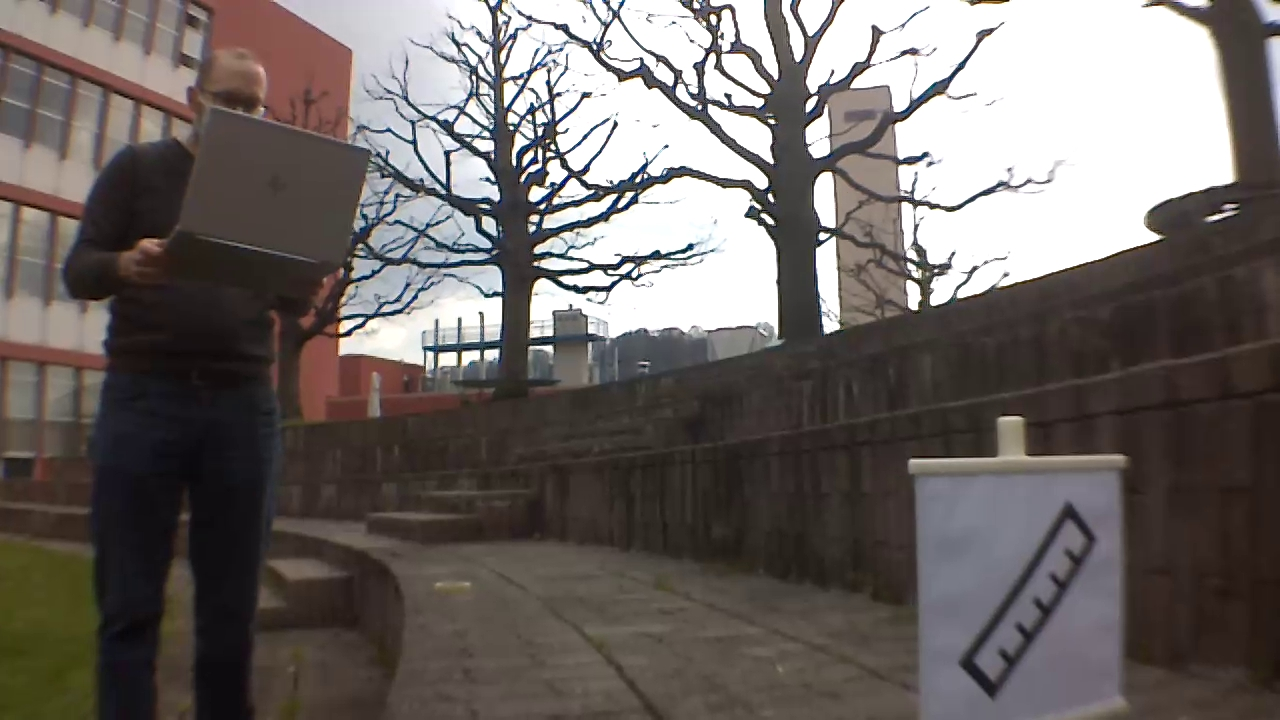ruler: (956, 494, 1106, 707)
